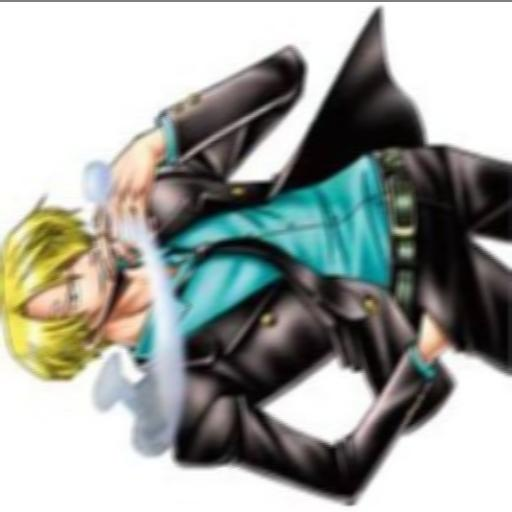sanji: (1, 15, 512, 487)
